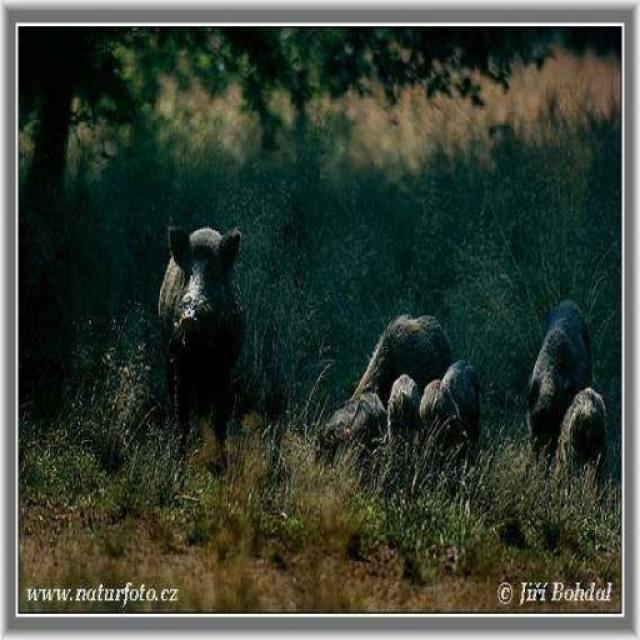pig: (138, 198, 303, 442)
